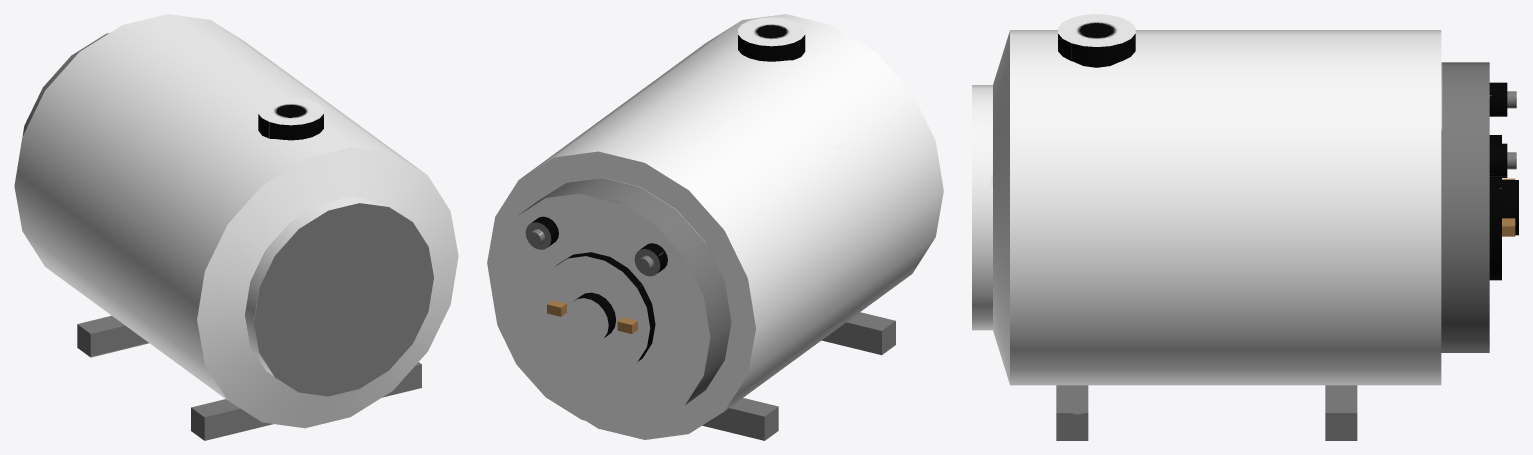
File: Boiler_with_heater.FBX
3 renders of one model, left to right at view 1: azimuth 30°, elevation 25°; view 2: azimuth 150°, elevation 25°; view 3: azimuth 270°, elevation 25°, orthographic. The views are drawn at different scales.
Parts seen in each view (by area): view 1: Boiler; view 2: Boiler, Heater; view 3: Boiler, Heater.
Boxes of the visible parts, x1,y1,x2,y2 form: Boiler: (14, 14, 458, 440); Boiler: (487, 14, 943, 440); Heater: (540, 252, 655, 373); Boiler: (972, 14, 1516, 440); Heater: (1489, 135, 1518, 280).
Bounding box in the file's own units: 25.37 × 27.07 × 38.9.
Materials: 2 (2 with a texture image).
